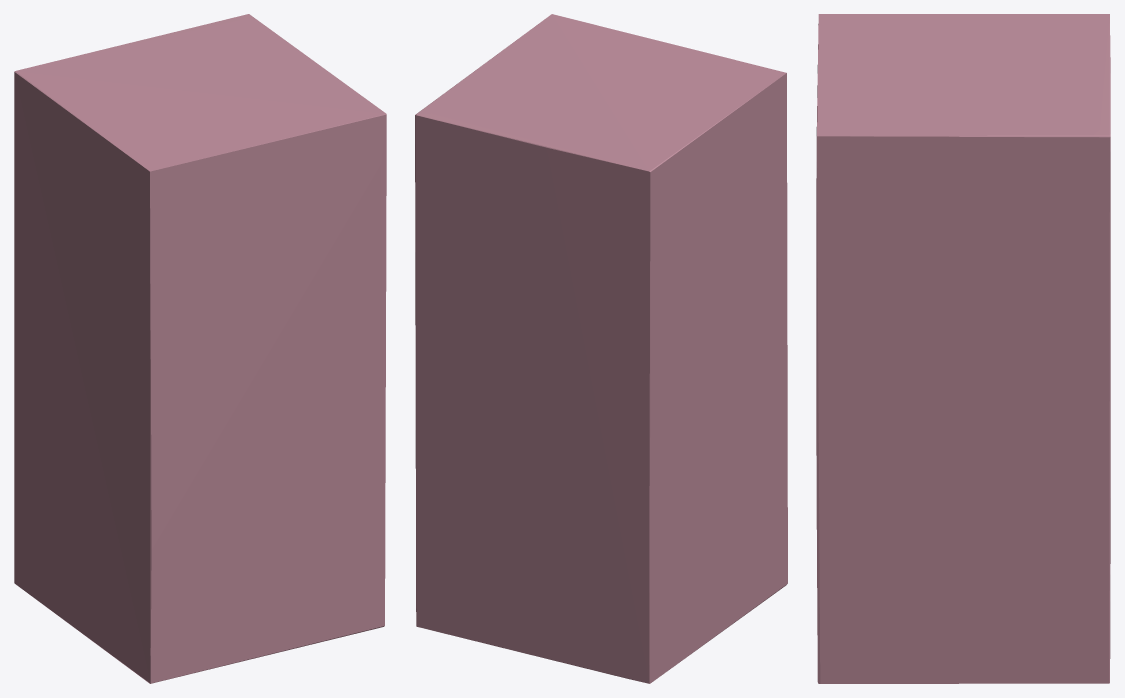
Rendered from box_corrugated_brown_b20.glb.
3 views of the same model, side by side, from view 1: azimuth 30°, elevation 25°; view 2: azimuth 150°, elevation 25°; view 3: azimuth 270°, elevation 25° (orthographic). The views are drawn at different scales.
Parts seen in each view (by area): view 1: geometry_0; view 2: geometry_0; view 3: geometry_0.
Part boxes in pixels (box(x1,y1,x2,y2)): geometry_0: box(14, 14, 386, 683); geometry_0: box(415, 14, 787, 683); geometry_0: box(816, 14, 1110, 683).
Bounding box in the file's own units: 0.2304 × 0.4791 × 0.2326.
